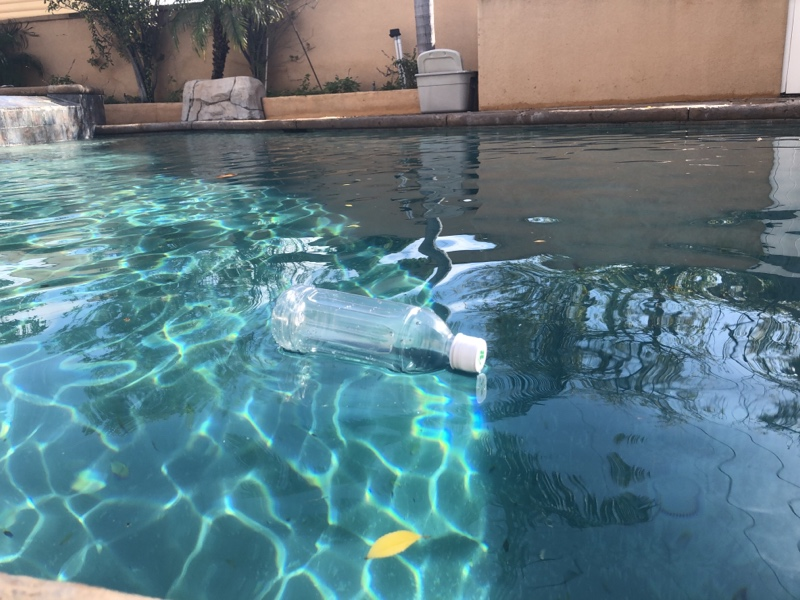Plastic Bottle: (268, 282, 489, 382)
